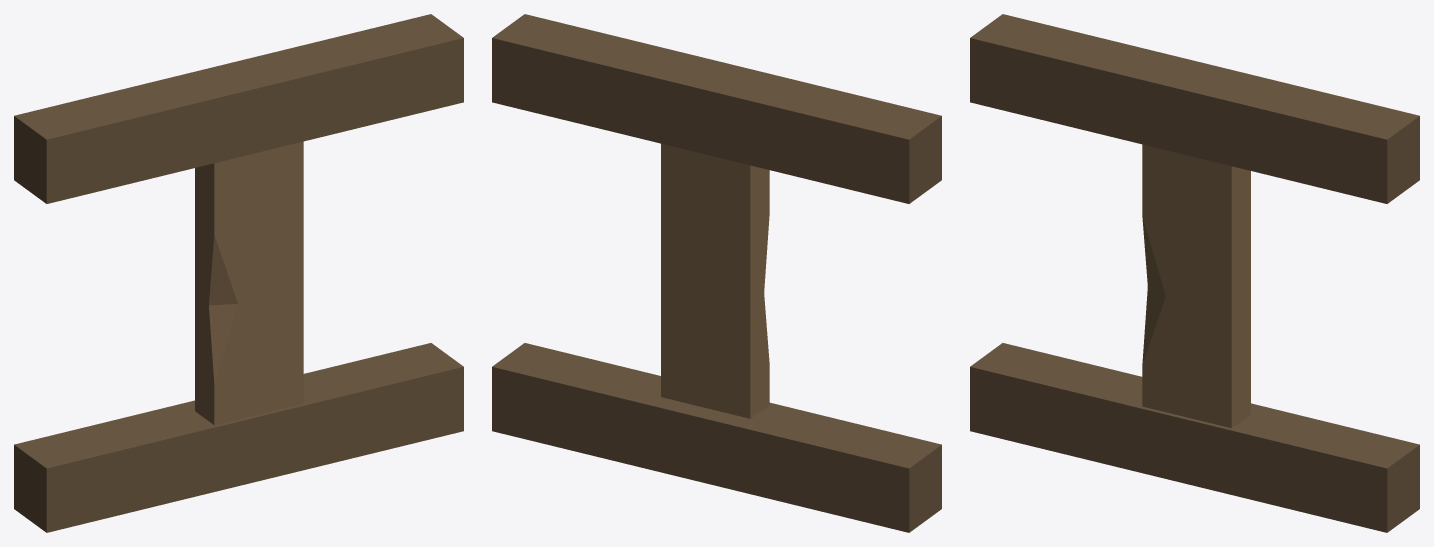
Rendered from SM_Env_Wood_06.fbx.
The picture shows the model from 3 angles, left to right: view 1: azimuth 30°, elevation 25°; view 2: azimuth 150°, elevation 25°; view 3: azimuth 330°, elevation 25°; orthographic projection.
Visible parts, largest first — view 1: SM_Env_Wood_06; view 2: SM_Env_Wood_06; view 3: SM_Env_Wood_06.
Boxes of the visible parts, bbox=[...] form: SM_Env_Wood_06: bbox=[14, 14, 463, 532]; SM_Env_Wood_06: bbox=[492, 14, 941, 532]; SM_Env_Wood_06: bbox=[970, 14, 1419, 532].
Size of the model in its own units: 58.38 by 52.57 by 7.94.
1 material, 1 textured.
